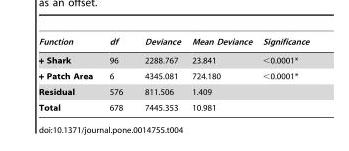table: (37, 37, 310, 111)
table column: (186, 37, 257, 111), (37, 37, 100, 111), (132, 37, 186, 111), (257, 37, 310, 111), (100, 37, 132, 111)
table column header: (37, 37, 310, 49)
table row: (37, 49, 310, 67), (37, 67, 310, 84), (37, 84, 310, 99), (37, 37, 310, 49), (37, 99, 310, 111)
